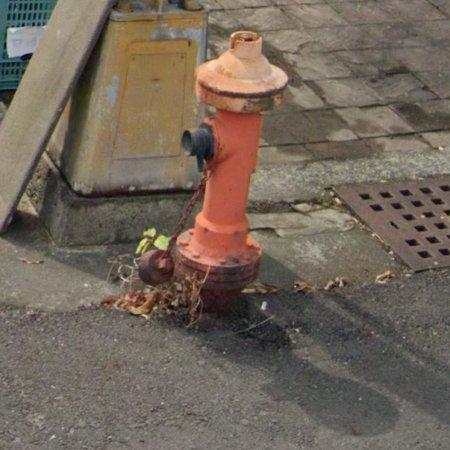a fire hydrant: (174, 31, 289, 307)
